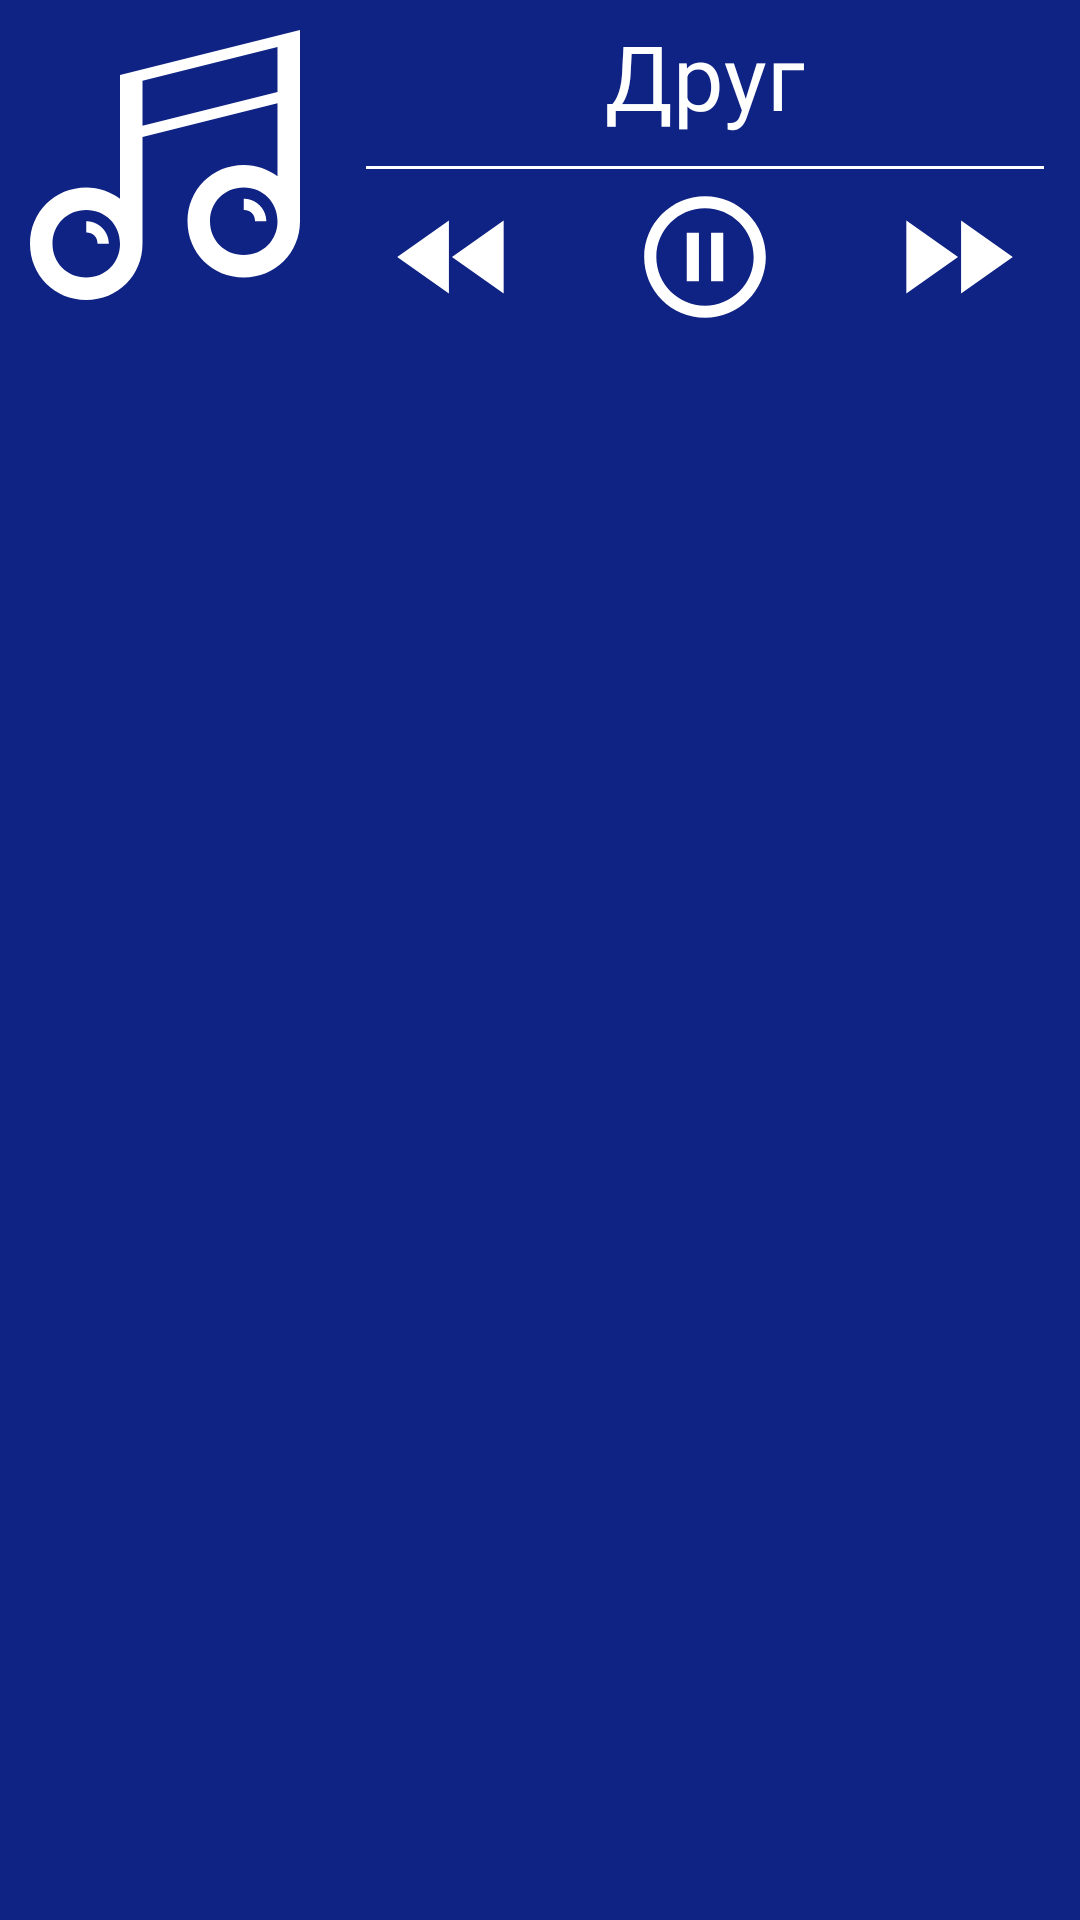

Where to tap for icons on this 1080 x 1920 app screen, as point (x, y):
music: point (165, 165)
next: point (959, 257)
pause: point (705, 257)
previous: point (450, 257)
